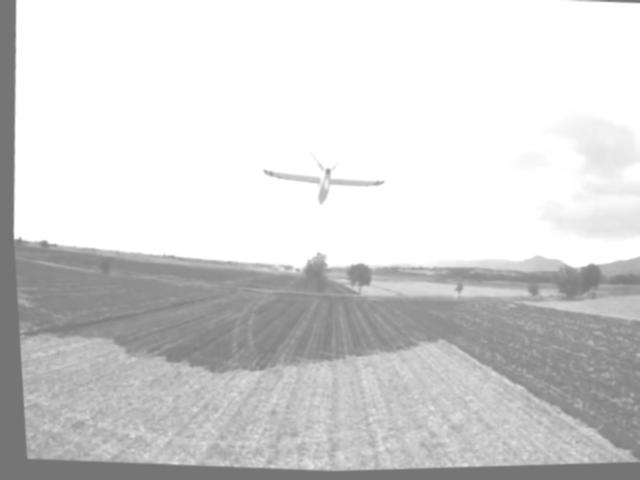hedef: (252, 135, 389, 224)
